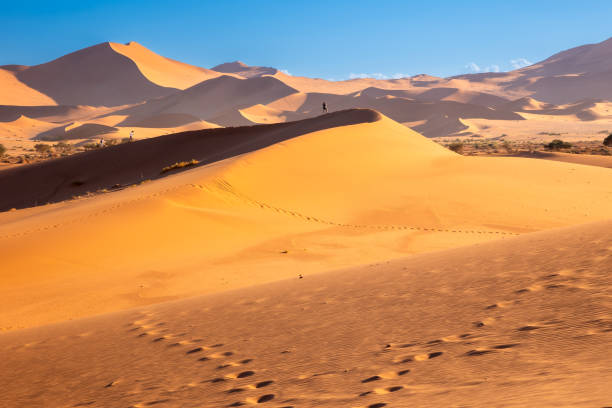human_footprint: (358, 300, 518, 396), (128, 319, 275, 405), (358, 368, 410, 397)
